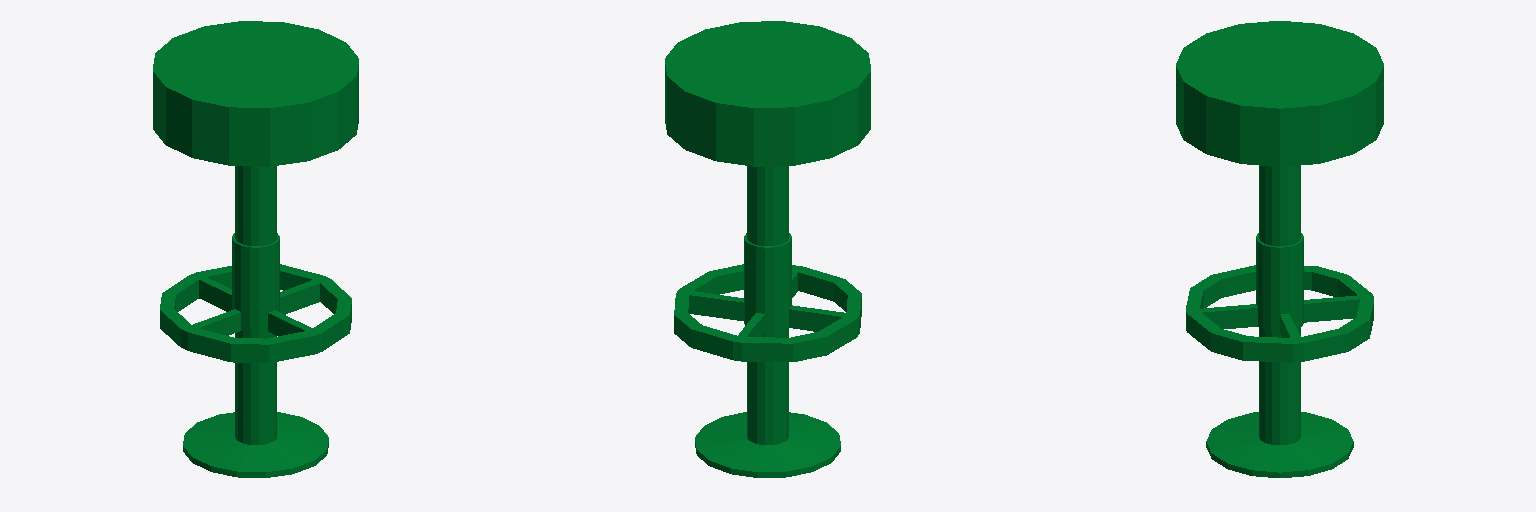
The model's file is studio_chair.obj.
The picture shows the model from 3 angles: view 1: azimuth 30°, elevation 25°; view 2: azimuth 150°, elevation 25°; view 3: azimuth 270°, elevation 25°; orthographic projection.
Parts seen in each view (by area): view 1: Cylinder003; view 2: Cylinder003; view 3: Cylinder003.
Part boxes in pixels (left/top/right/bottom): Cylinder003: left=153, top=21, right=358, bottom=477; Cylinder003: left=665, top=21, right=870, bottom=477; Cylinder003: left=1176, top=21, right=1383, bottom=477.
Size of the model in its own units: 0.4692 by 0.9489 by 0.4692.